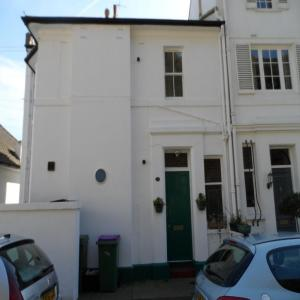Vehicle-registration-plate: (41, 288, 57, 300), (197, 293, 207, 300)
